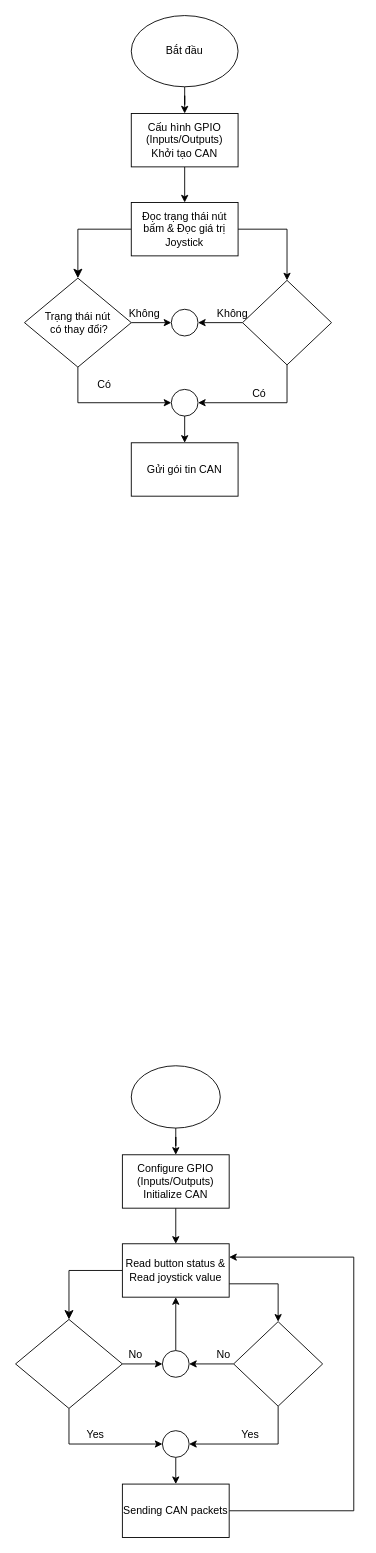
This 376x1553 diagram has some shape labels left out. Here are the shapes that lost their labels. From the top down, the box of each, then its label:
(242, 279, 332, 365): Giá trị biến trở có thay đổi?
(130, 1065, 220, 1128): Start
(15, 1319, 122, 1408): Has the button state changed?
(233, 1321, 323, 1406): Has the joystick value changed?
